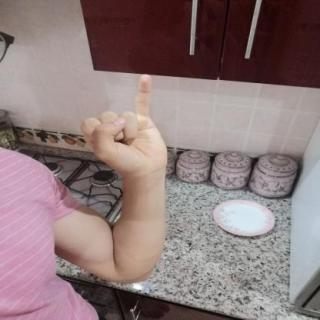MEEM: (68, 68, 176, 182)
